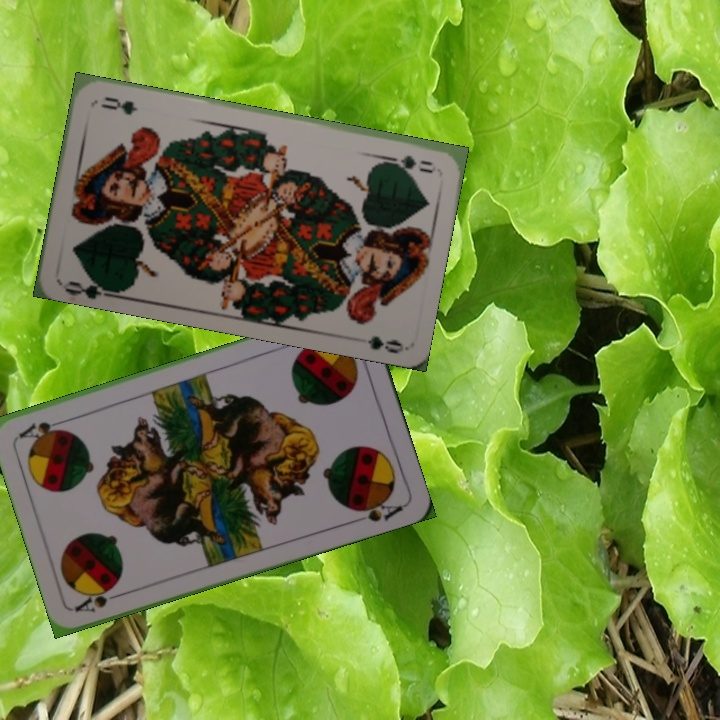GO: (59, 270, 119, 300), (379, 151, 434, 171)
SA: (71, 582, 129, 615)
